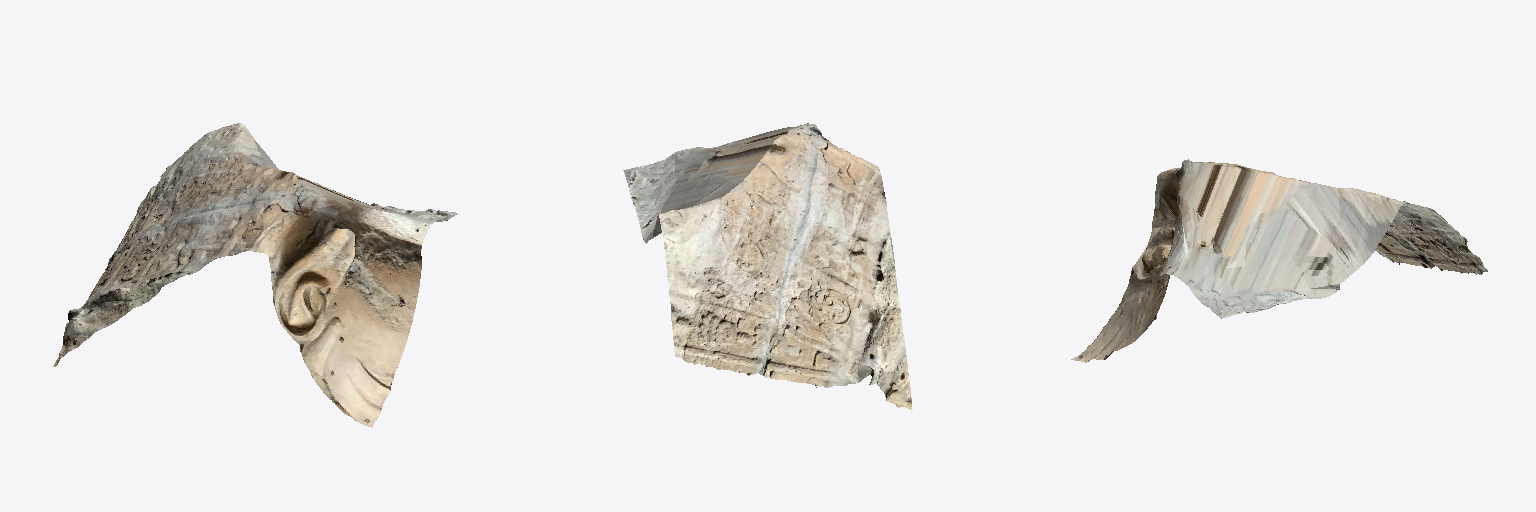
3 renders of one model, left to right at view 1: azimuth 30°, elevation 25°; view 2: azimuth 150°, elevation 25°; view 3: azimuth 270°, elevation 25°, orthographic.
Visible parts, largest first — view 1: texture_0; view 2: texture_0; view 3: texture_0.
Boxes of the visible parts, box(x1,y1,x2,y2) form: texture_0: box(53, 123, 457, 427); texture_0: box(623, 123, 912, 409); texture_0: box(1071, 159, 1487, 362).
Size of the model in its own units: 0.4195 by 0.226 by 0.436.
1 materials, 1 textured.